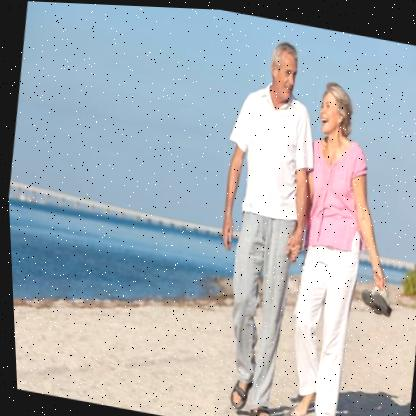person: (183, 28, 339, 416), (264, 73, 416, 416)
